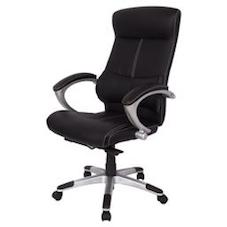chair: (28, 2, 187, 223)
